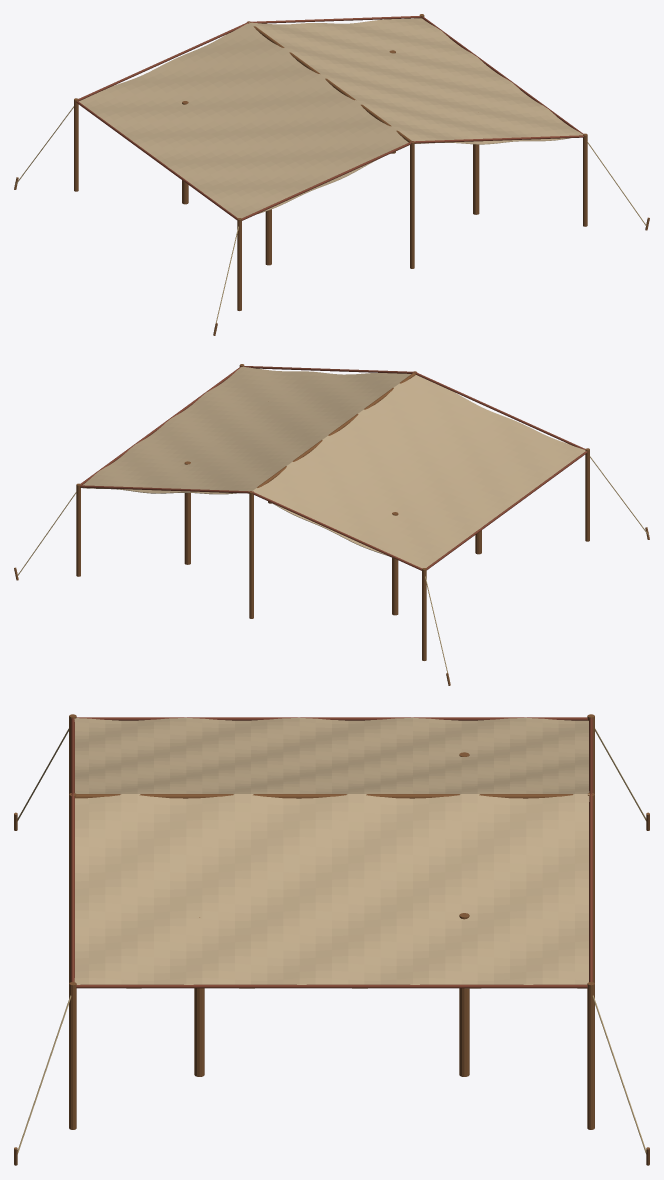
The model's file is SupplyCanopy.fbx.
3 renders of one model, top to bottom at view 1: azimuth 30°, elevation 25°; view 2: azimuth 150°, elevation 25°; view 3: azimuth 270°, elevation 25°, orthographic. The views are drawn at different scales.
Parts seen in each view (by area): view 1: SupplyCanopy; view 2: SupplyCanopy; view 3: SupplyCanopy.
Boxes of the visible parts, x1=… form: SupplyCanopy: x1=14, y1=14, x2=649, y2=335; SupplyCanopy: x1=14, y1=364, x2=649, y2=685; SupplyCanopy: x1=14, y1=714, x2=649, y2=1165.
Size of the model in its own units: 1389 by 391 by 1105.
